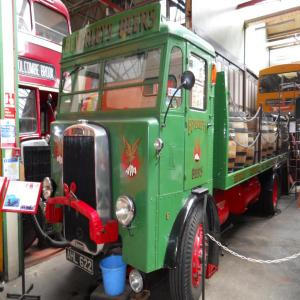Vehicle-registration-plate: (68, 249, 95, 276)
